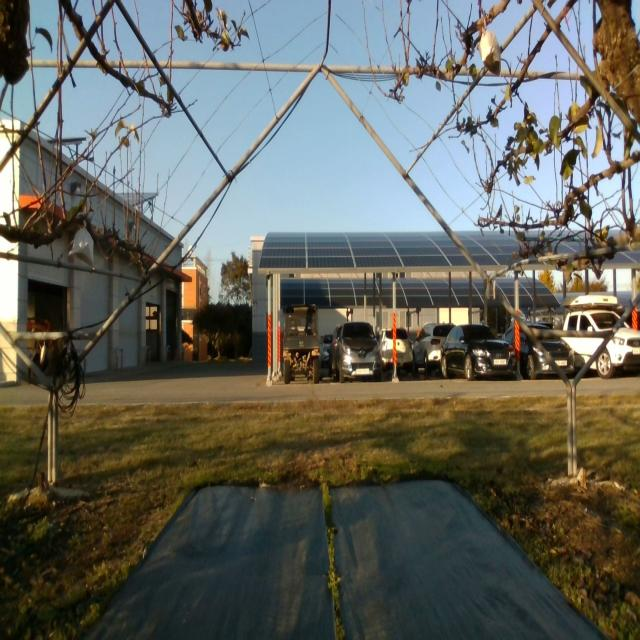pearbags: (68, 220, 95, 270), (479, 16, 501, 75)
